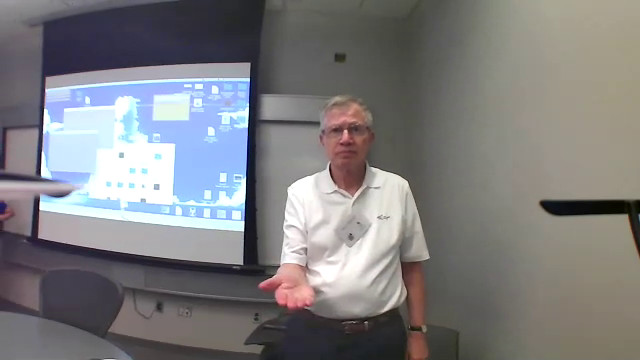land: (248, 259, 334, 314)
